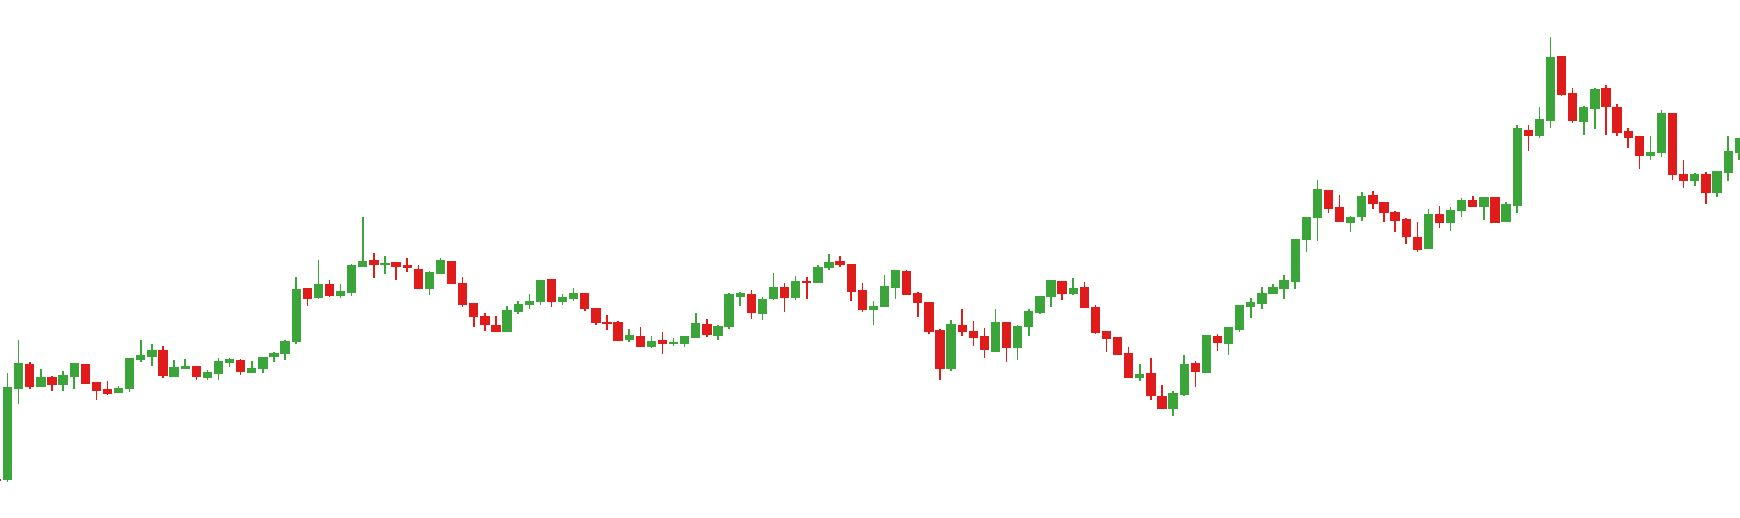buy: (1344, 197, 1436, 260)
